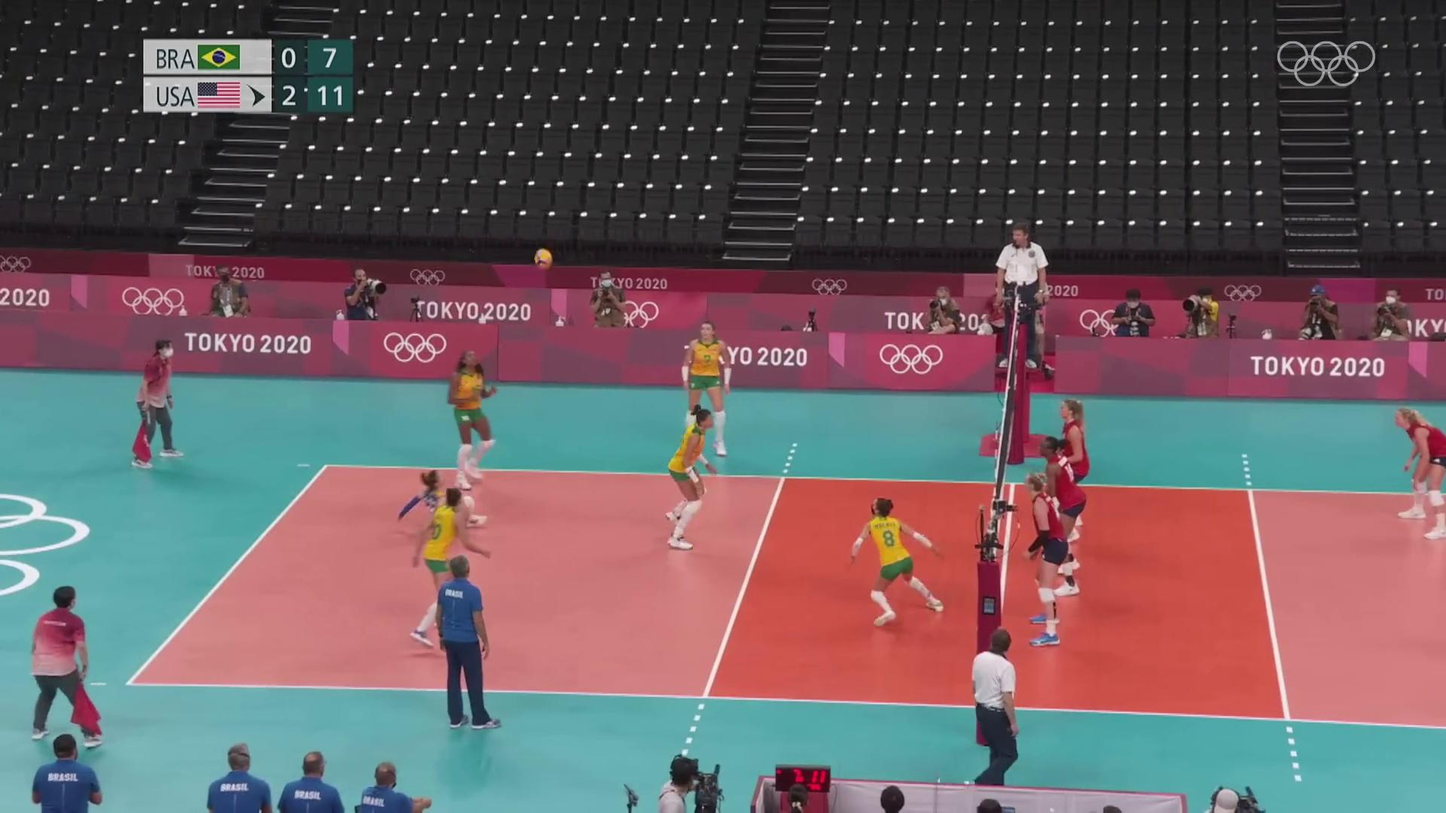player: (403, 491, 490, 649), (848, 498, 944, 623), (398, 470, 476, 591), (1037, 435, 1088, 602), (1021, 472, 1066, 651), (665, 405, 717, 551), (682, 320, 733, 461), (1394, 407, 1446, 540), (451, 358, 501, 491), (1049, 399, 1092, 544)
refree: (27, 586, 103, 744), (968, 630, 1023, 785), (995, 230, 1052, 376), (129, 339, 185, 466)
